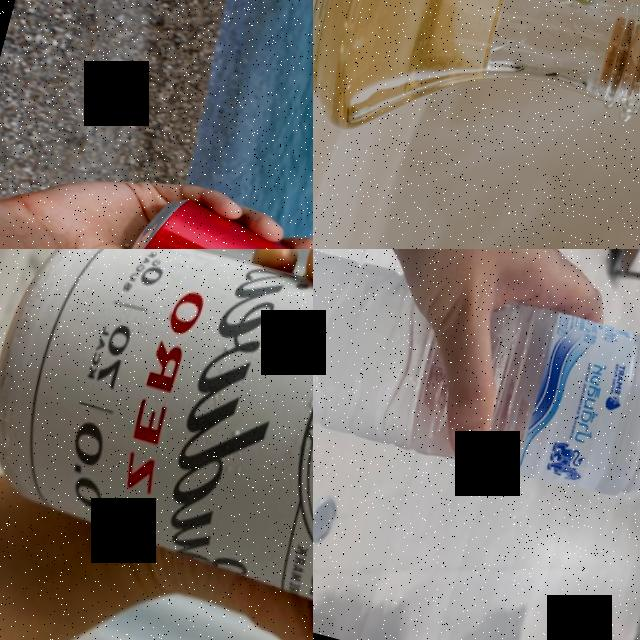bottle: (313, 249, 640, 532)
can: (0, 249, 313, 640)
